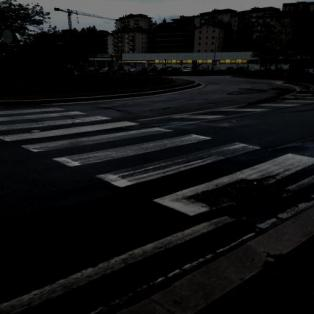Paso de Cebra: (48, 132, 281, 190)
